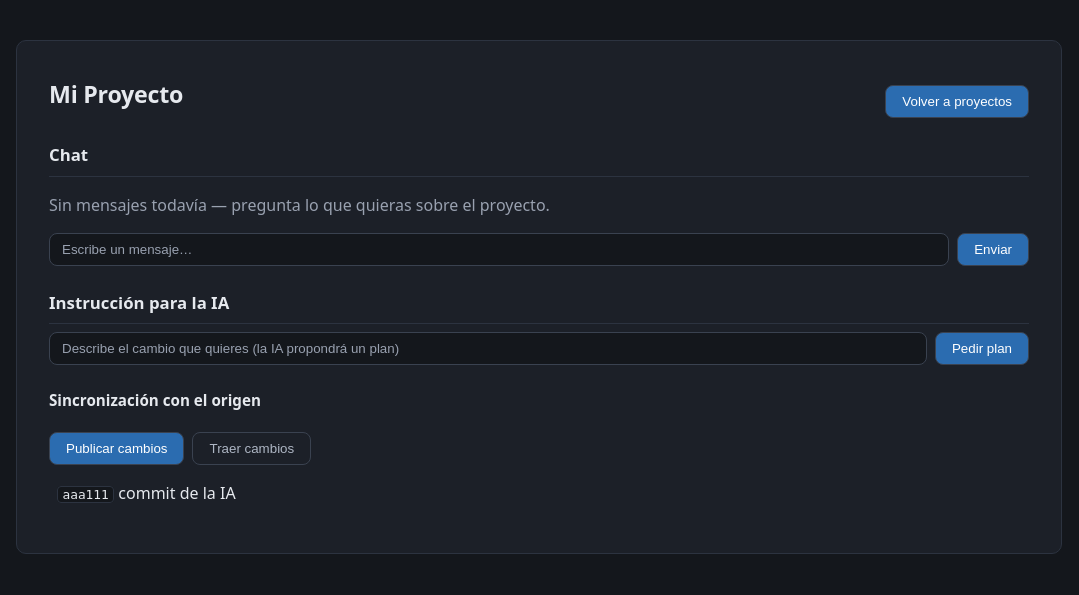
Test: VistaWorkspace › panel de git (Fase 3: workspace clonado de un remoto) › muestra historial y permite publicar cambios (push)
The width and height of the screenshot is (1079, 595).
Expected: the element with test id "panel-git" is shown, x1=49 y1=390 x2=311 y2=504
Expected: the list item "aaa111 commit de la IA" is shown, x1=57 y1=482 x2=236 y2=504
Click the button "Publicar cambios". click: coordinates (117, 448)
box: x1=49 y1=432 x2=184 y2=465
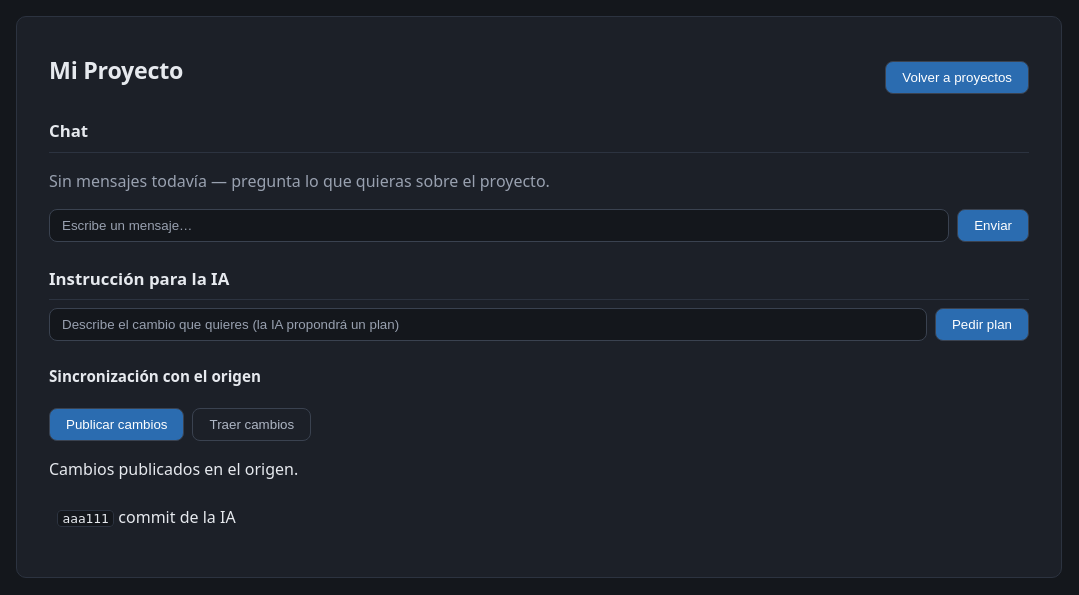
Now the text "Cambios publicados en el origen." is shown, box x1=49 y1=458 x2=298 y2=480
